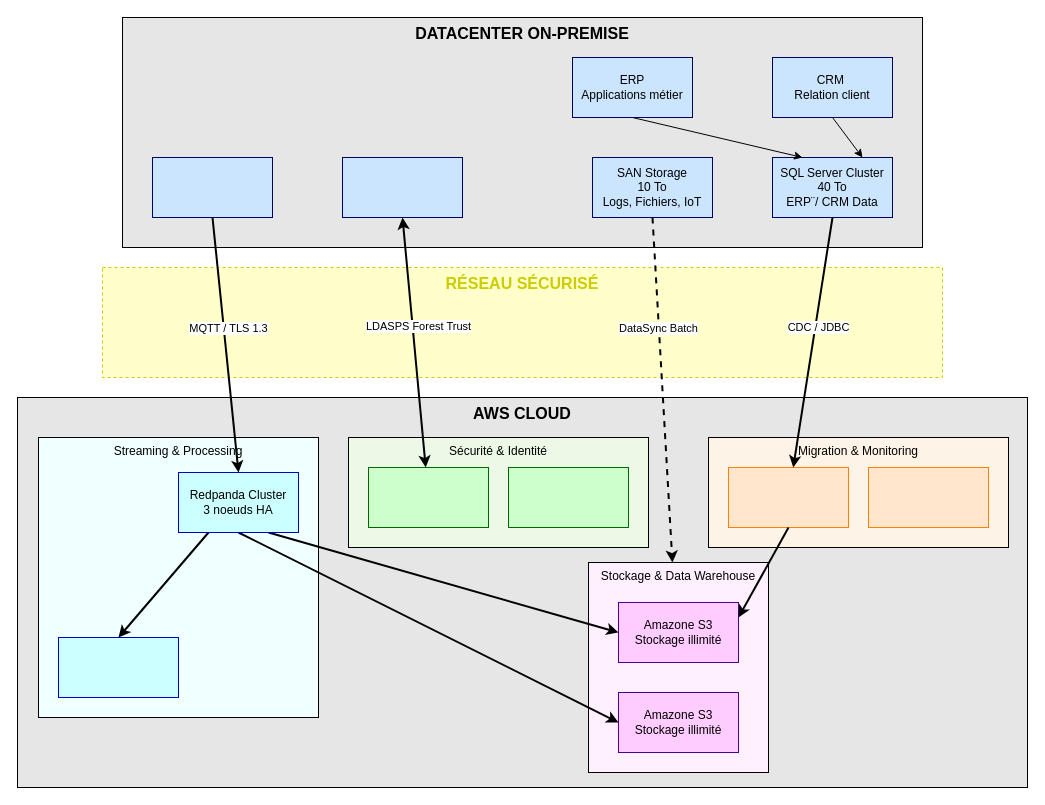
Image size: 1045x805. Some labels were removed from this diagram. The centre of each missing label's shape, as x and y in pixels:
"Active Directory Authentification" goes at point 402,187.
"Apps temps réel Dashboard" goes at point 118,667.
"AWS DMS CDC temps réel" goes at point 788,497.
"AWS IAM Rôles & Policies" goes at point 568,497.
"AWS Managed AD Trus bidirectionnel" goes at point 428,497.
"Capteur IoT 50 Go/mois" goes at point 212,187.
"CloudWatch Monitoring" goes at point 928,497.
